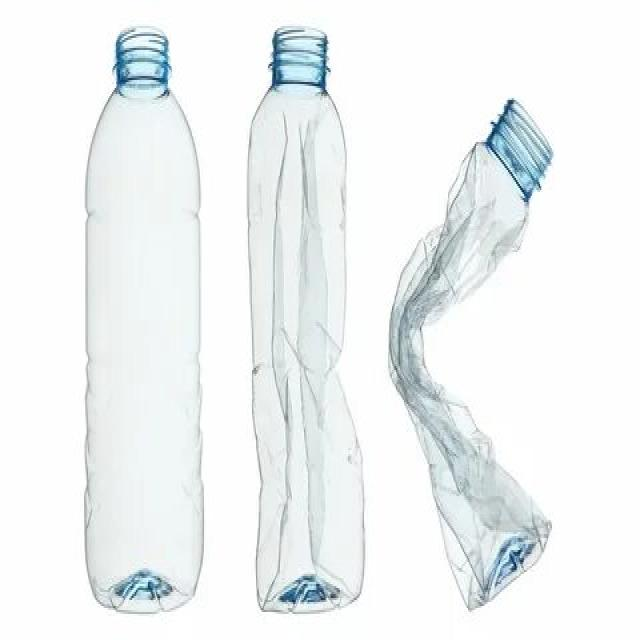blue: (387, 97, 553, 608), (86, 29, 206, 614), (247, 22, 366, 610)
